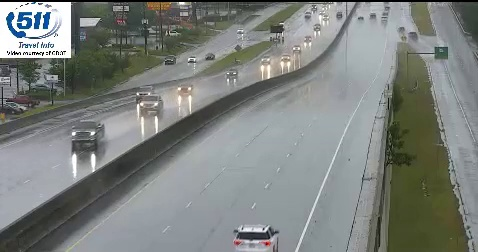car: (234, 225, 279, 251)
